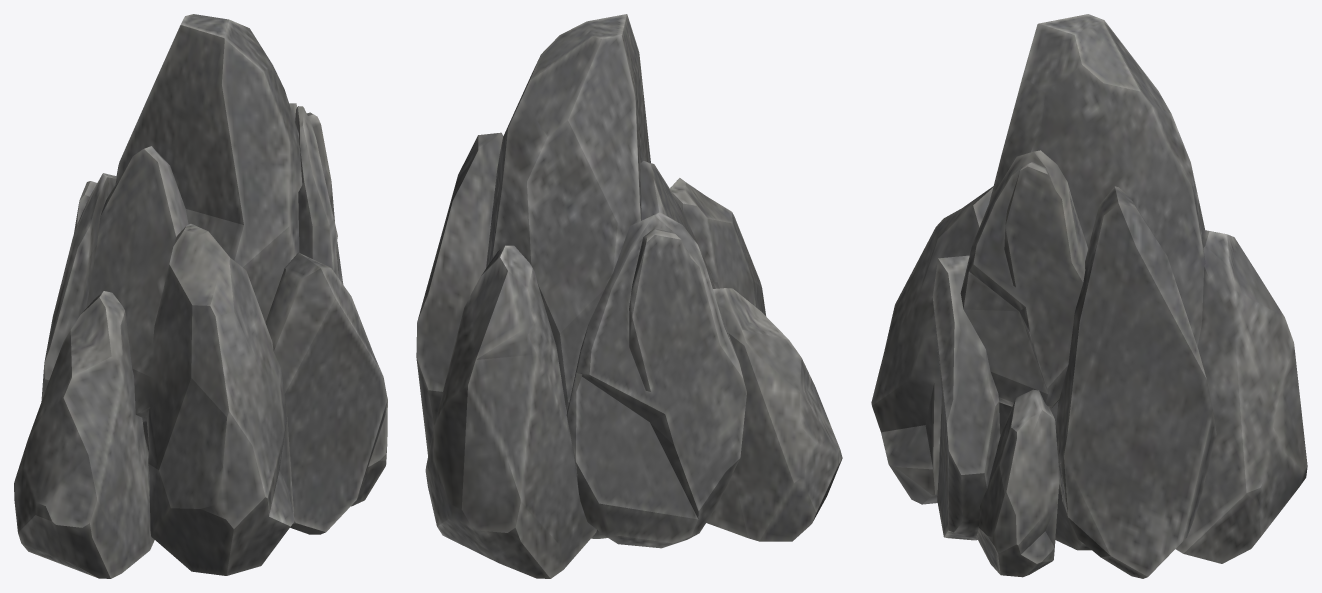
File: RockGroup08_Dream.glb
3 views of the same model, side by side, from view 1: azimuth 30°, elevation 25°; view 2: azimuth 150°, elevation 25°; view 3: azimuth 270°, elevation 25° (orthographic). The views are drawn at different scales.
Parts seen in each view (by area): view 1: rockgroup08_dream; view 2: rockgroup08_dream; view 3: rockgroup08_dream.
Boxes of the visible parts, x1=… form: rockgroup08_dream: x1=14, y1=14, x2=387, y2=578; rockgroup08_dream: x1=416, y1=14, x2=842, y2=578; rockgroup08_dream: x1=871, y1=14, x2=1307, y2=578.
Bounding box in the file's own units: 0.6185 × 0.8257 × 0.6476.
1 material, 1 textured.
